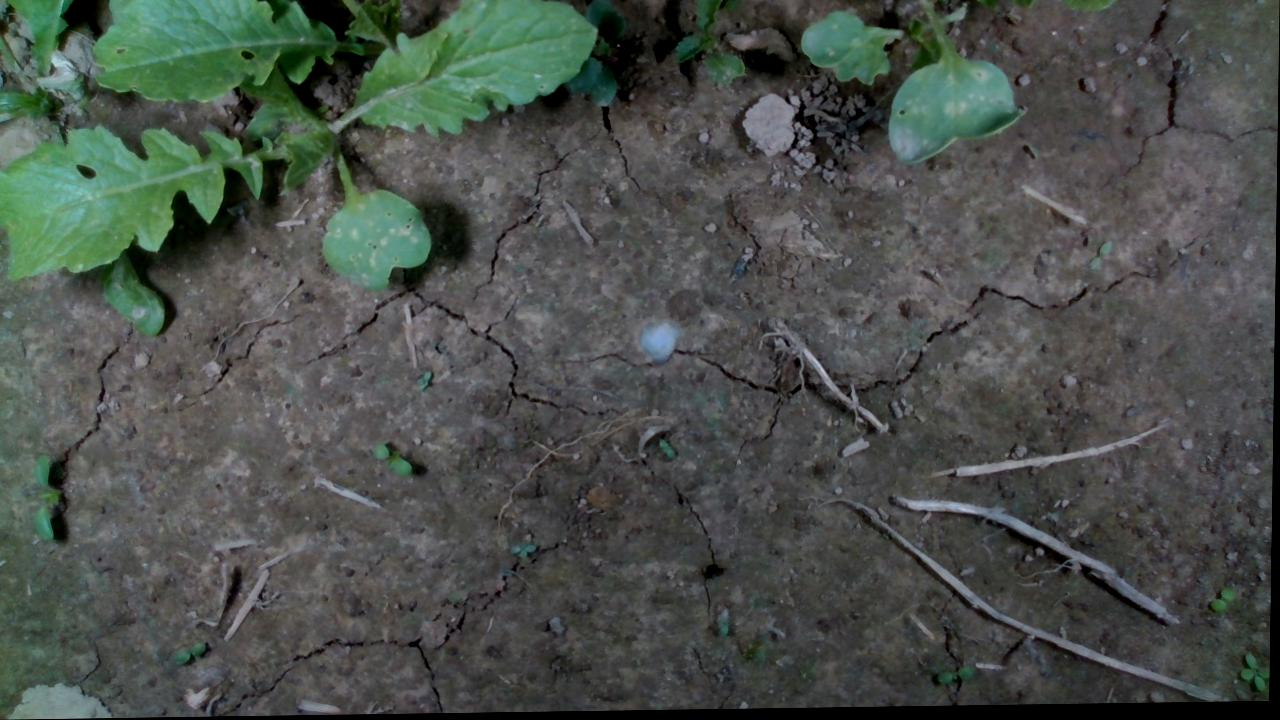weed: (371, 441, 415, 477)
